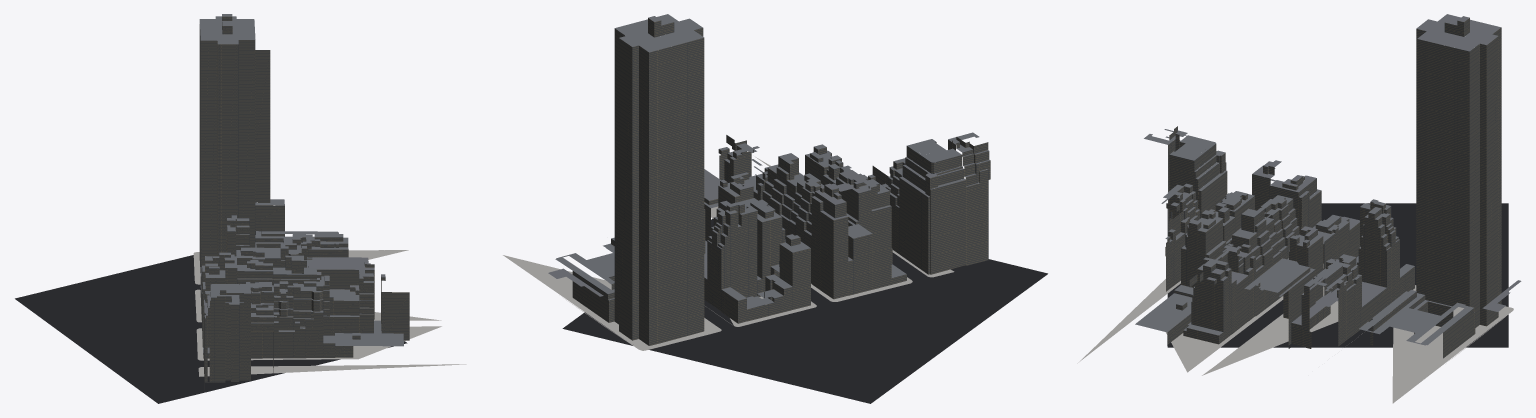
The picture shows the model from 3 angles, left to right: view 1: azimuth 30°, elevation 25°; view 2: azimuth 150°, elevation 25°; view 3: azimuth 270°, elevation 25°; orthographic projection. The views are drawn at different scales.
Parts seen in each view (by area): view 1: t1_6, detail; view 2: t1_6, detail; view 3: t1_6, detail.
Boxes of the visible parts, <box> form: t1_6: <box>15,14,409,403</box>; detail: <box>193,250,466,376</box>; t1_6: <box>548,14,1047,403</box>; detail: <box>503,157,954,350</box>; t1_6: <box>1135,14,1521,358</box>; detail: <box>1077,264,1513,403</box>.
Size of the model in its own units: 348 by 243 by 326.
Materials: 4 (2 with a texture image).
